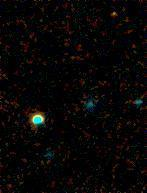star: (107, 0, 137, 28)
